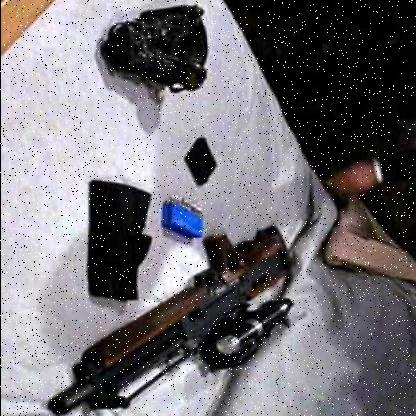rifle: (52, 219, 302, 415)
